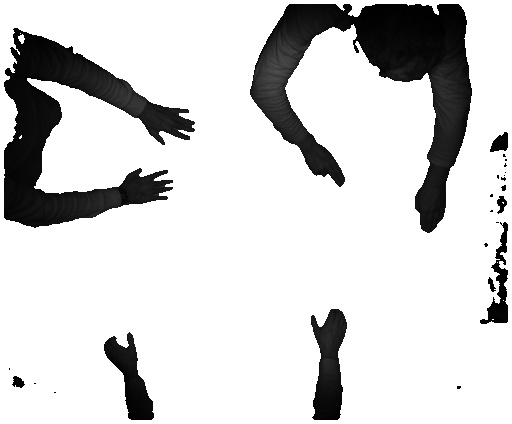hand: (144, 102, 199, 151), (304, 143, 351, 190), (305, 304, 351, 352), (408, 185, 447, 239), (104, 328, 143, 377), (127, 168, 175, 207)
